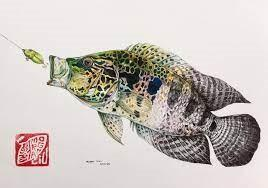Jaguar Gapote: (47, 41, 260, 167)
